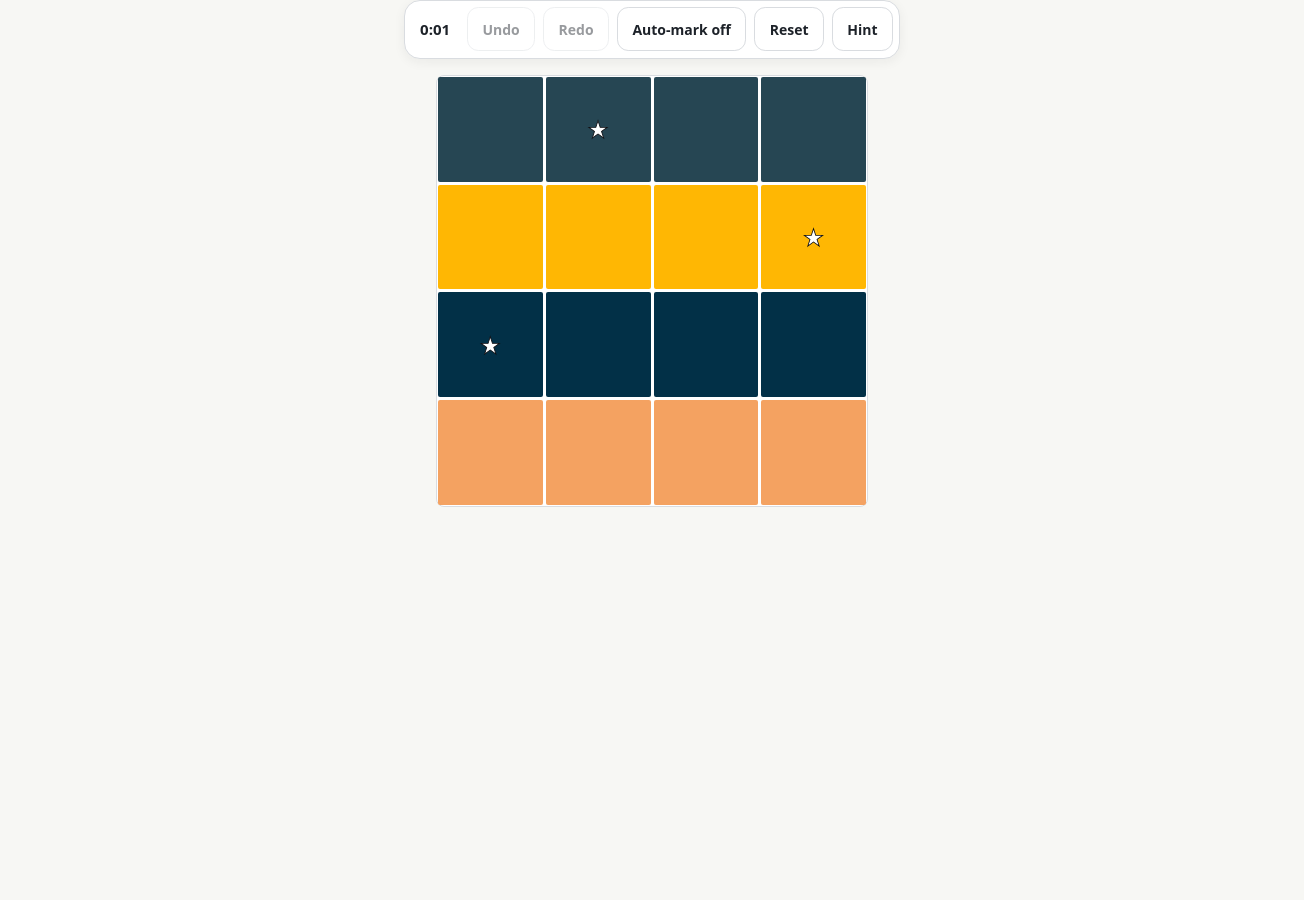
Star Battle freezes both reset times at the exact completion instant
Click the button "Reset".
click(789, 29)  # box 754,7 -> 824,51
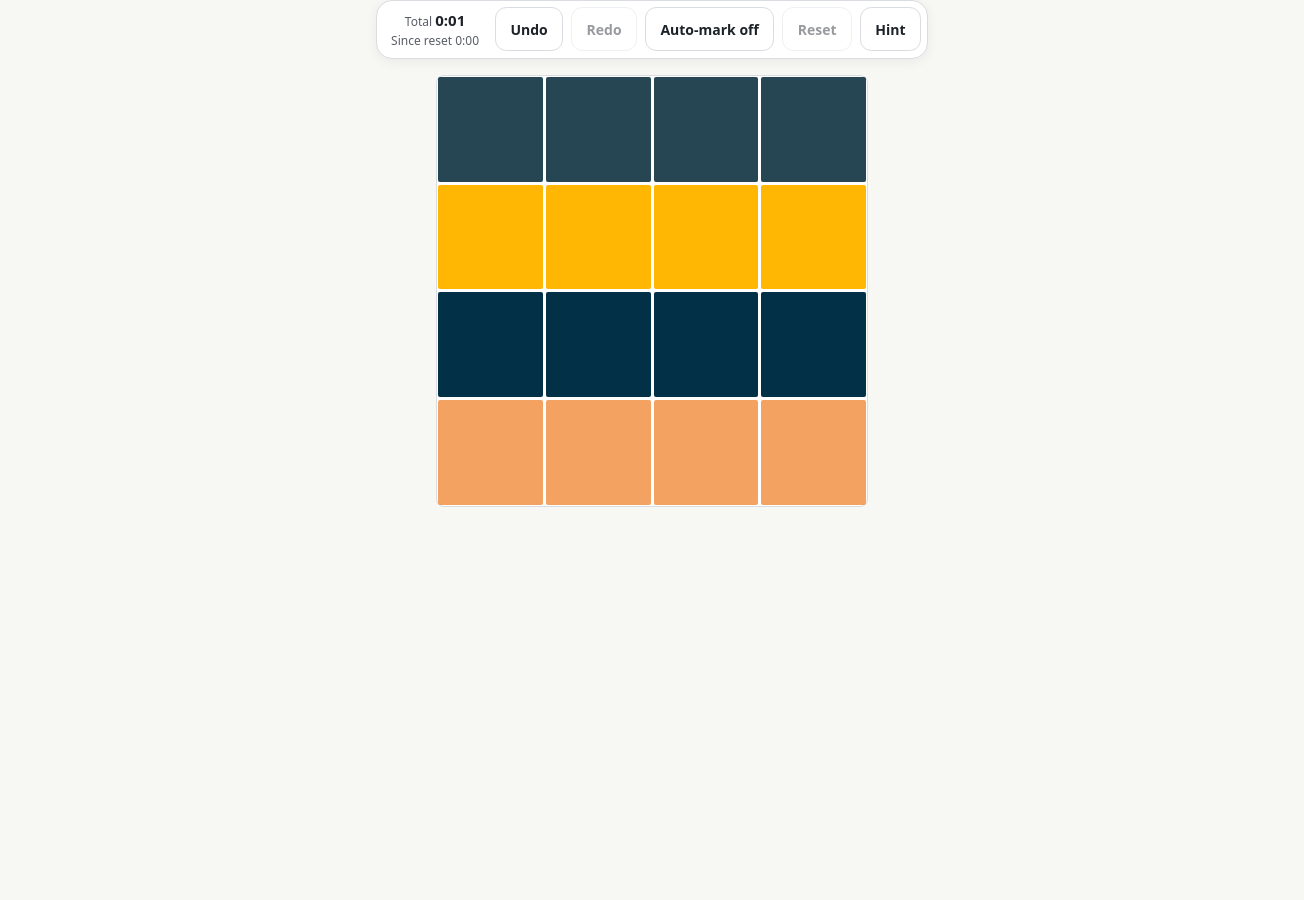
Click the button "Undo".
click(529, 29)  # box 495,7 -> 563,51
Wait 650 ms
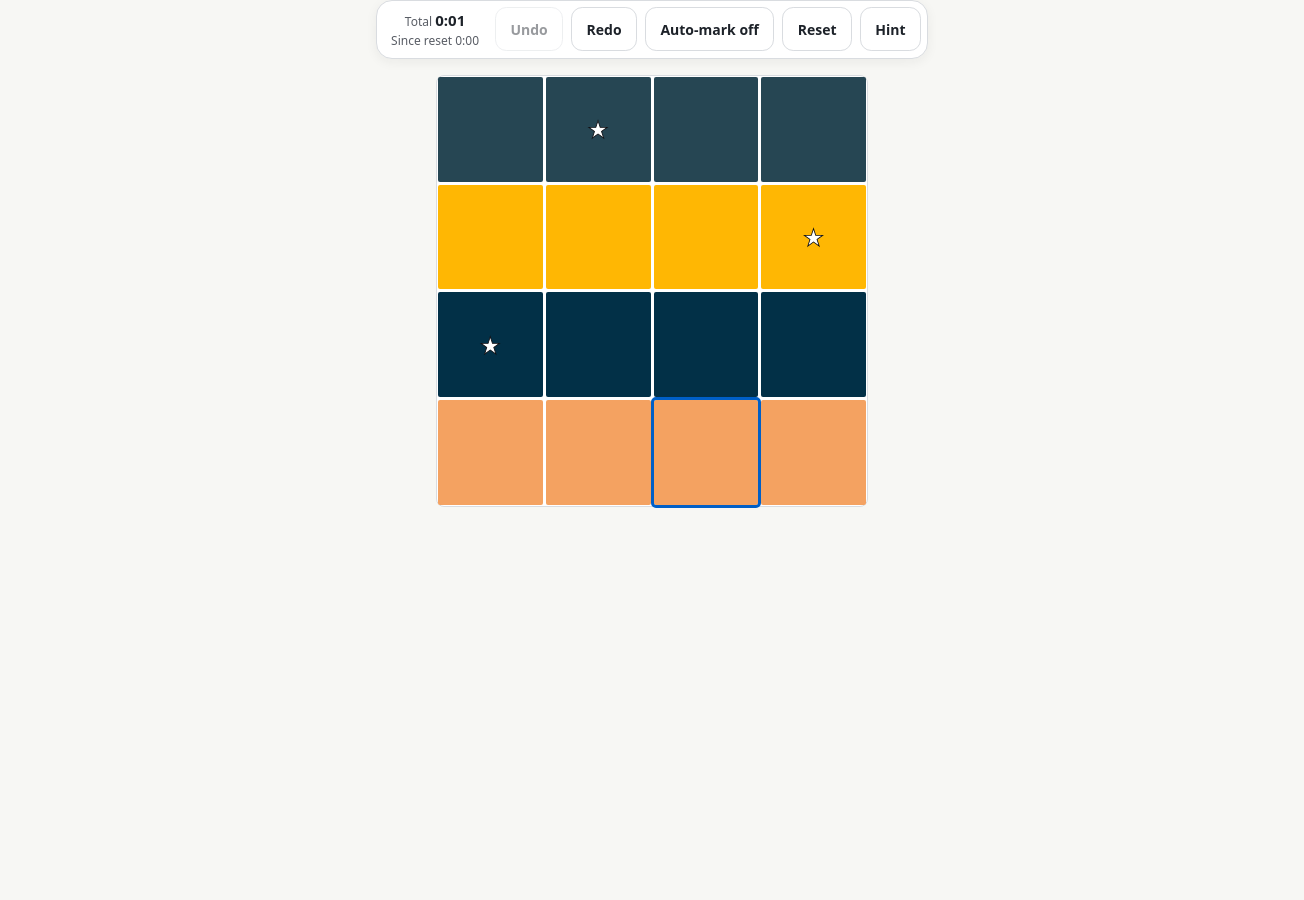
Press Enter in the cell named "Row 4, column 3, empty", box 654,400 -> 758,505
Wait 10000 ms
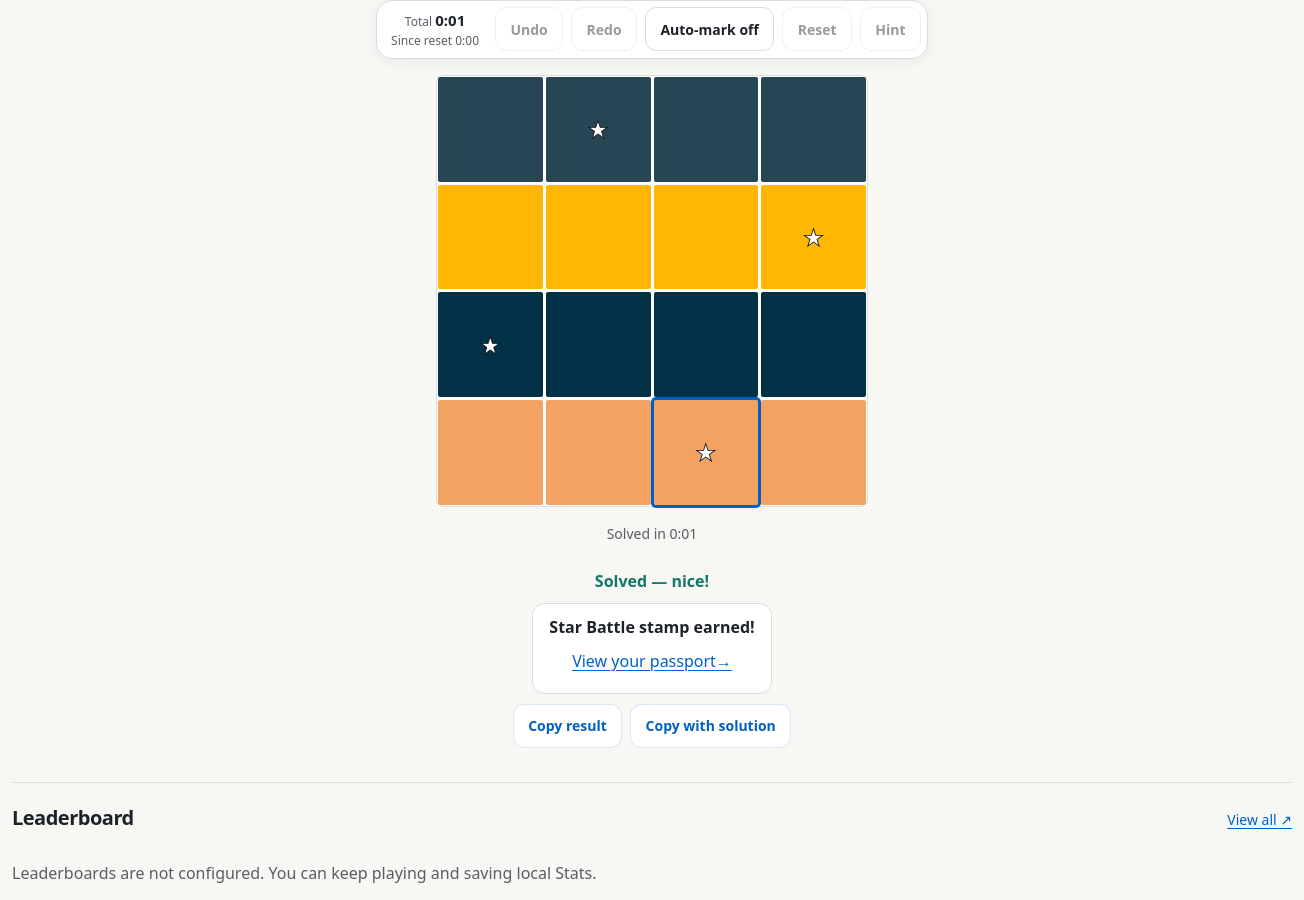
Now the button "Undo" is disabled, box 495,7 -> 563,51
Now the element named "Elapsed active time" reads "Total 0:01", box 405,9 -> 465,32
Now the button "Reset" is disabled, box 782,7 -> 852,51
